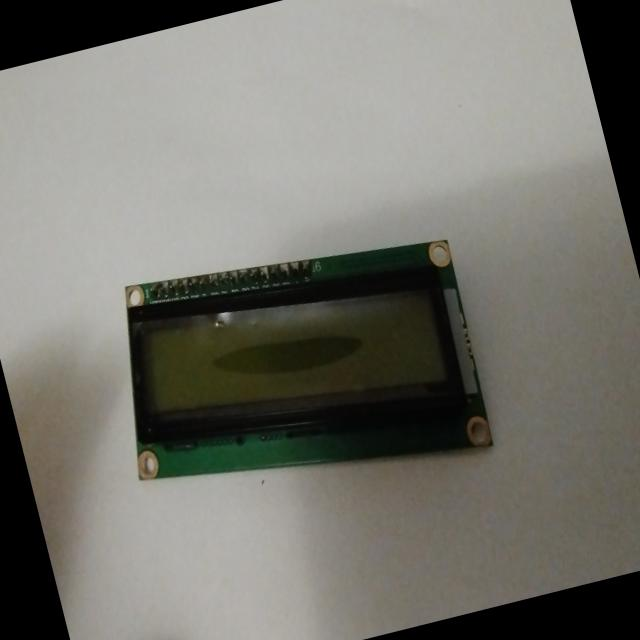lcd: (91, 203, 500, 532)
